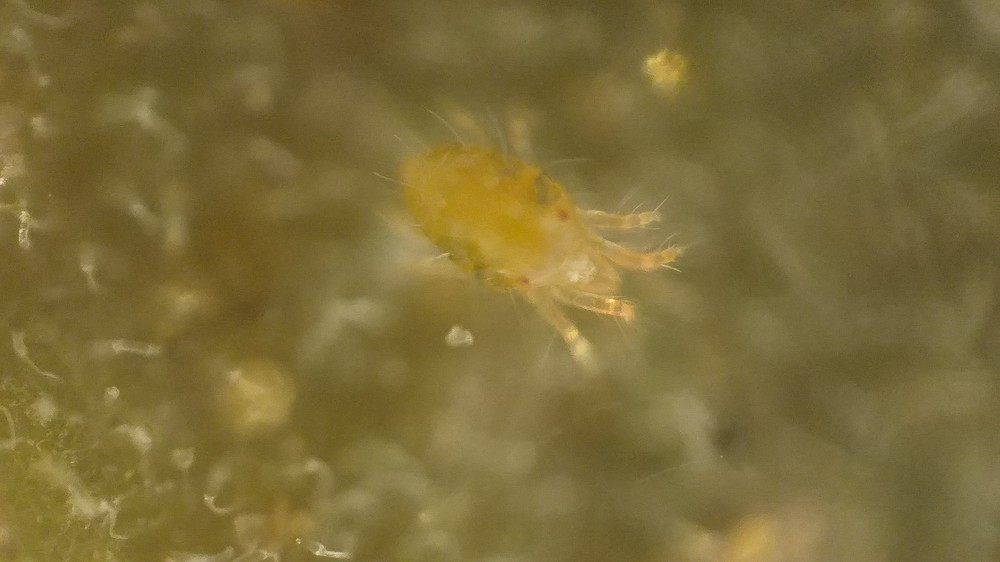Aracnido Rojo: (353, 97, 697, 395)
